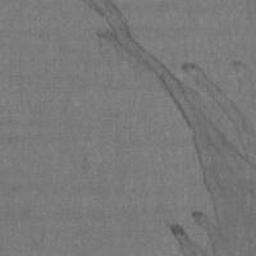Water spot: (83, 0, 256, 256), (229, 56, 256, 113)
